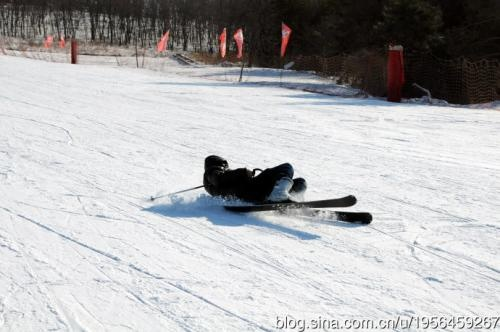falling: (198, 147, 312, 208)
